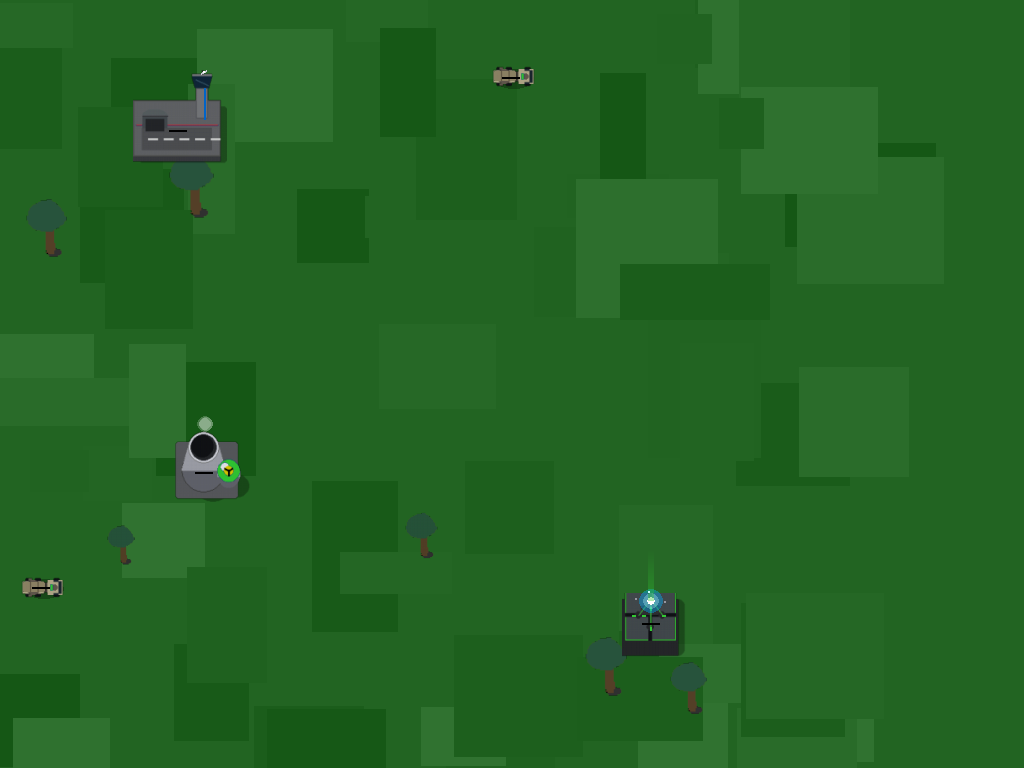APC_usa: (176, 443, 232, 499)
ArmoredCar: (19, 564, 62, 607), (489, 54, 532, 97)
HeavyMech: (134, 85, 221, 172)
Lake: (617, 588, 685, 656)
